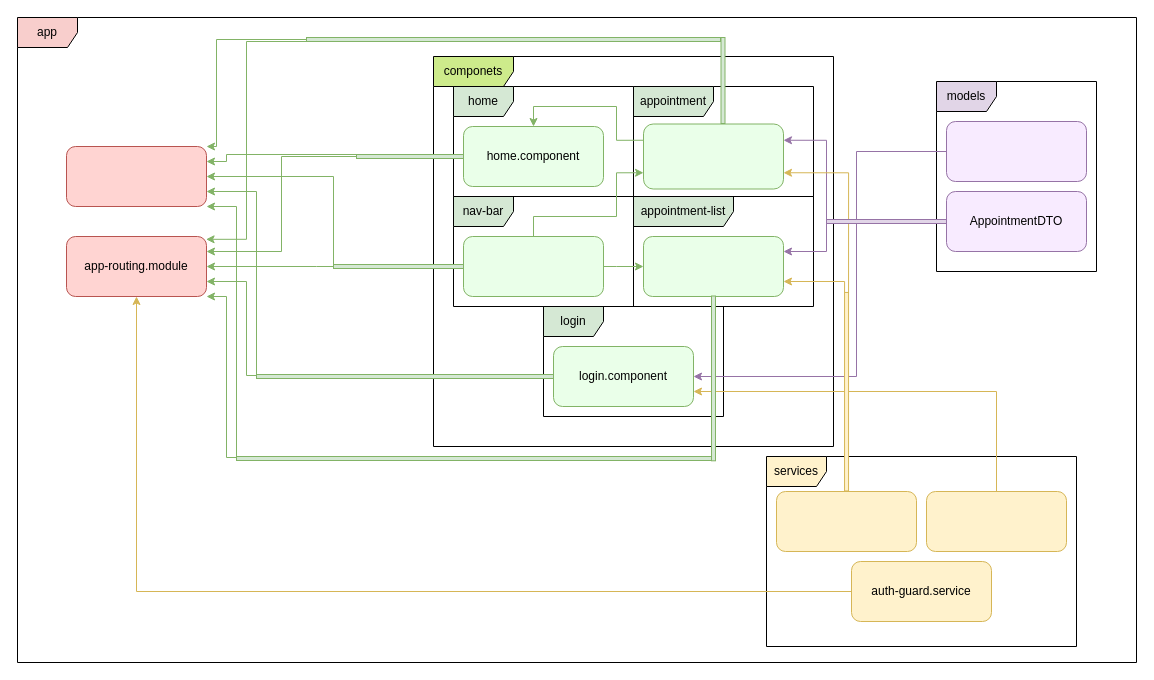
Some shapes in this 1154 by 680 pixel diagram are drawn without their labels. The shapes that lost their labels are listed below. From the top down, each one's box as (x1, y1, x2, y2) in pixels, then its label:
(642, 123, 784, 189): appointment.component
(946, 120, 1086, 182): LoginDTO
(66, 146, 206, 206): app.module
(462, 236, 604, 296): nav-bar.component
(642, 236, 784, 296): appointment-list.component
(776, 490, 916, 552): appointments.service
(926, 490, 1066, 552): login.service
